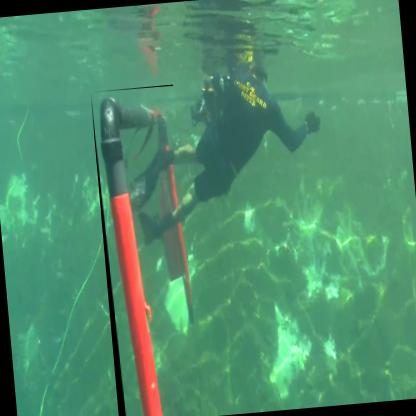gate: (91, 85, 205, 416)
